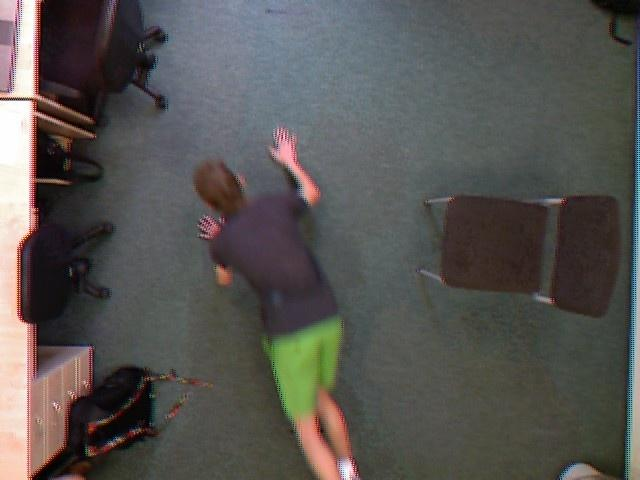fall: (186, 128, 363, 480)
